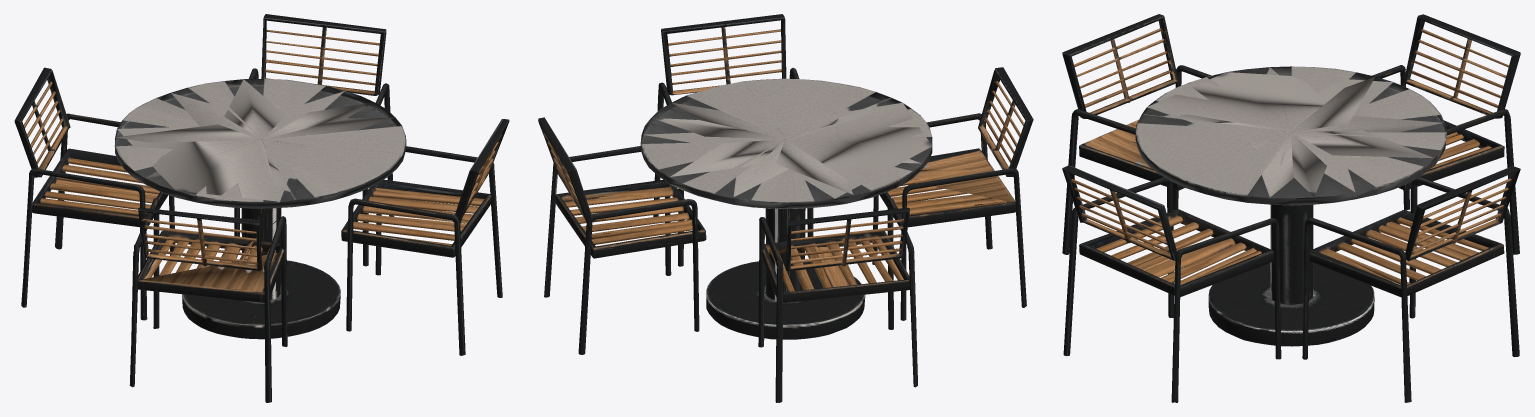
Rendered from meshy-t2.glb.
3 views of the same model, side by side, from view 1: azimuth 30°, elevation 25°; view 2: azimuth 150°, elevation 25°; view 3: azimuth 270°, elevation 25° (orthographic). The views are drawn at different scales.
Bounding box in the file's own units: 1 × 0.4859 × 1.
Materials: 1 (1 with a texture image).
